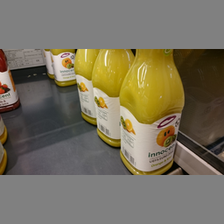juice: (118, 49, 187, 175), (91, 50, 135, 148), (72, 49, 99, 126)
